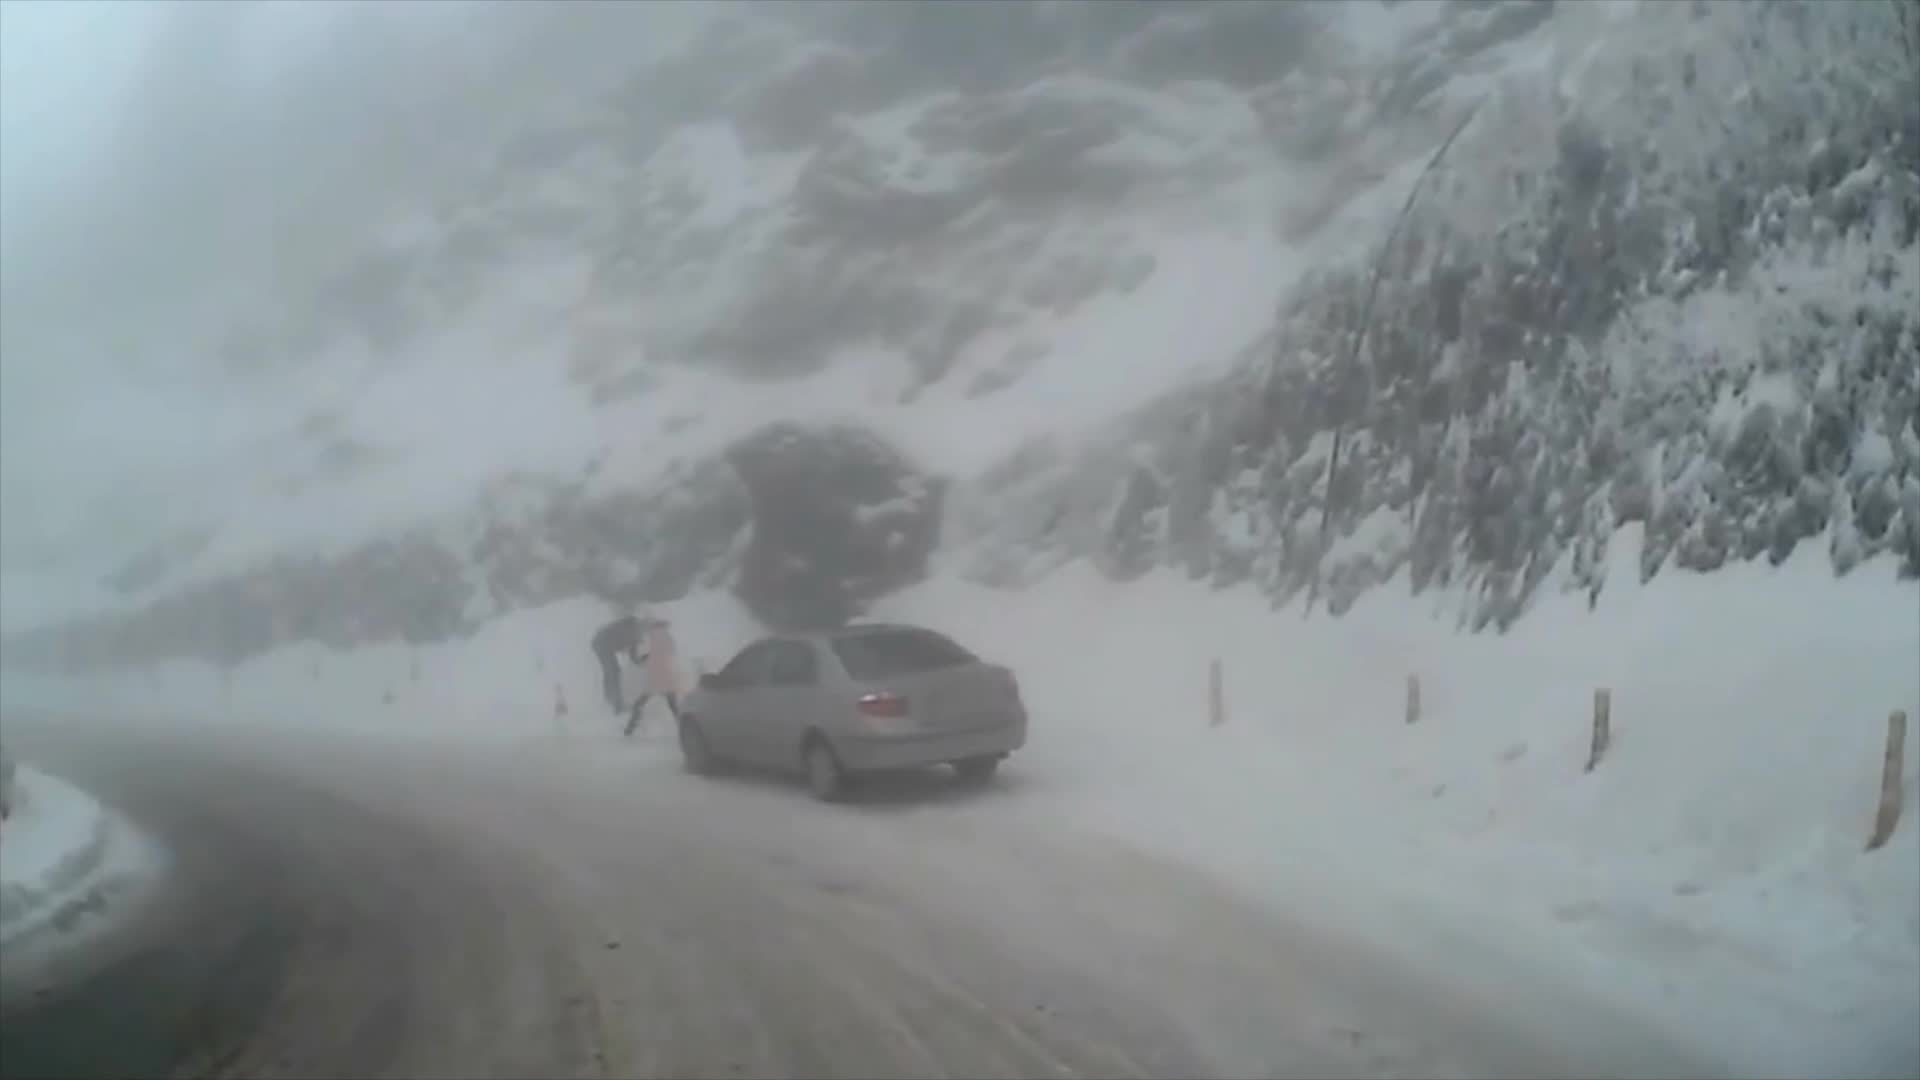pedestrian: (627, 607, 706, 740), (595, 609, 670, 712)
vehicle: (674, 620, 1027, 803)
